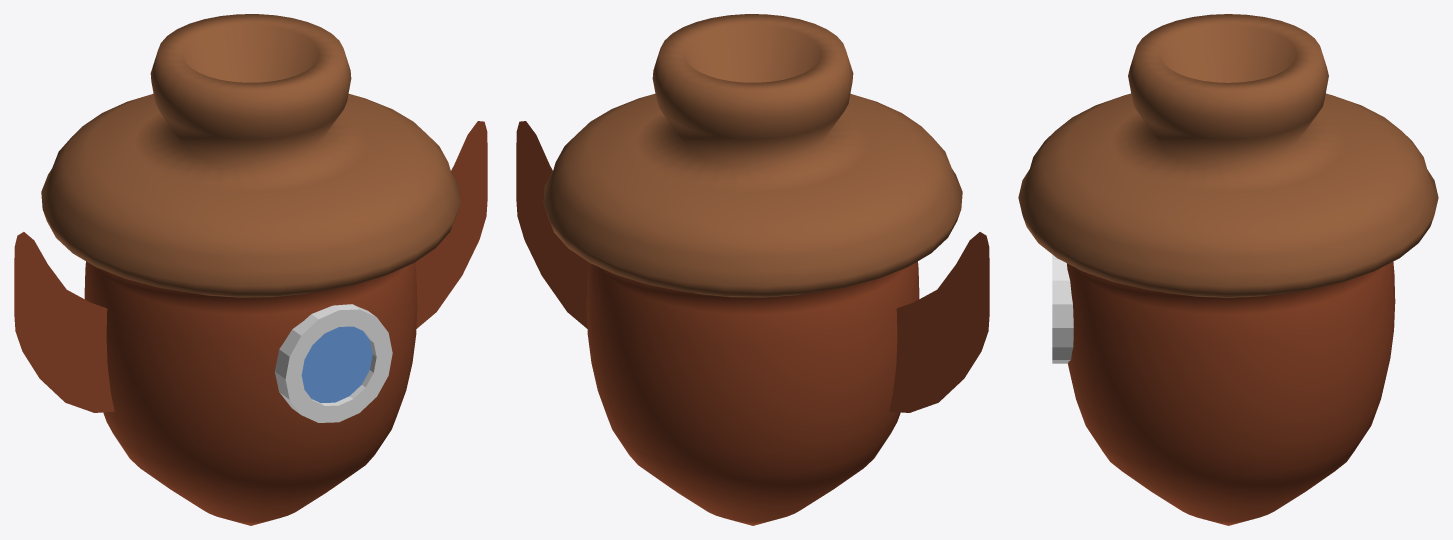
Rendered from acornship.fbx.
3 views of the same model, side by side, from view 1: azimuth 30°, elevation 25°; view 2: azimuth 150°, elevation 25°; view 3: azimuth 270°, elevation 25° (orthographic).
Visible parts, largest first — view 1: Cylinder, Cylinder.002, Cylinder.001; view 2: Cylinder, Cylinder.002; view 3: Cylinder, Cylinder.001.
Part boxes in pixels (x1=…): Cylinder: x1=41, y1=14, x2=460, y2=525; Cylinder.002: x1=14, y1=121, x2=487, y2=412; Cylinder.001: x1=274, y1=304, x2=392, y2=422; Cylinder: x1=543, y1=14, x2=962, y2=525; Cylinder.002: x1=516, y1=121, x2=989, y2=412; Cylinder: x1=1018, y1=14, x2=1438, y2=525; Cylinder.001: x1=1052, y1=254, x2=1073, y2=363.
Size of the model in its own units: 79.48 by 61.16 by 75.87.
